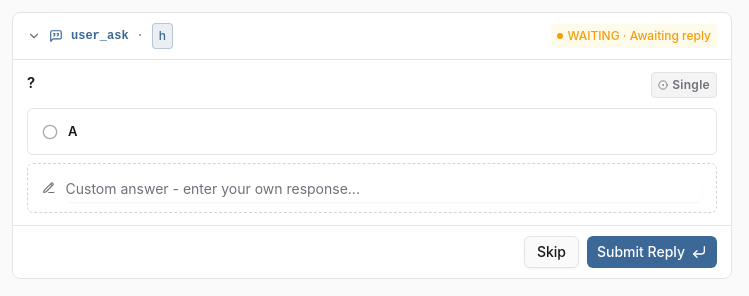
Test: UserAskCard › on submit failure shows expired message and locks the card
Click the button "A" at [50, 132], box [27,108,717,155]
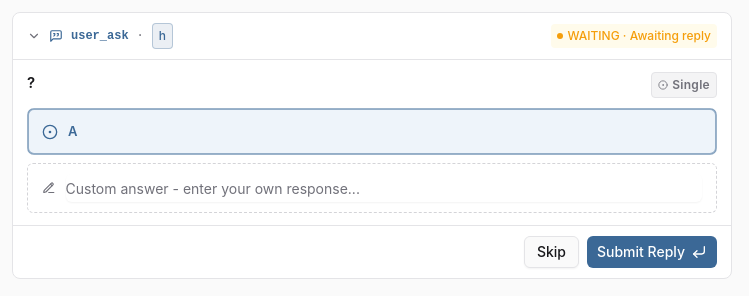
Click the button "Submit Reply" at [652, 252], box [587,236,717,268]
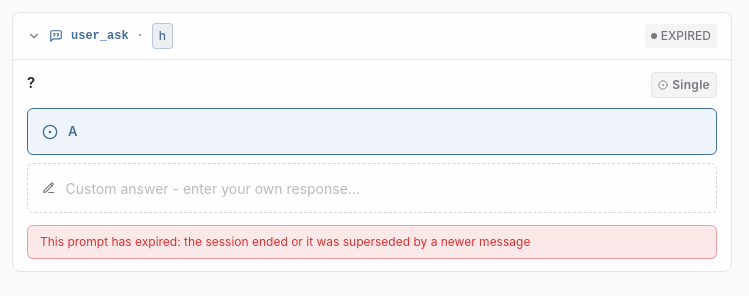
Expected: the button "Submit Reply" is gone
